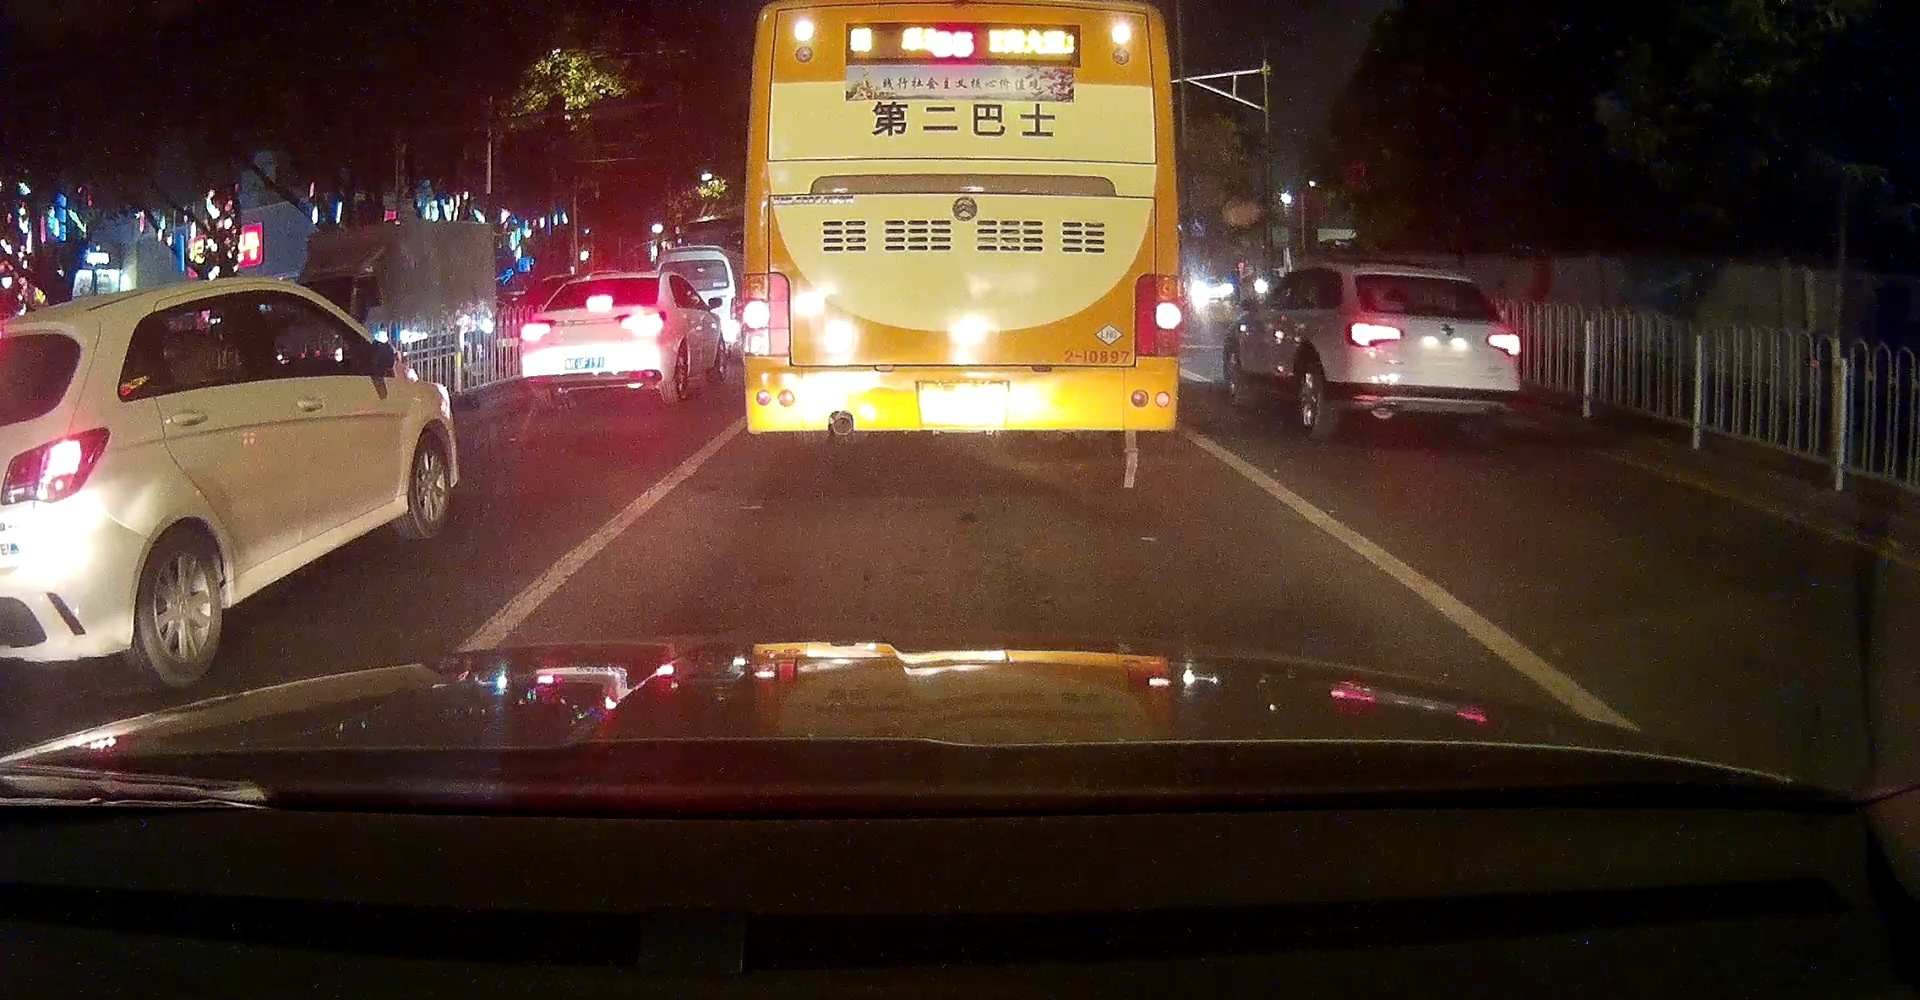L_light: (738, 272, 790, 357), (519, 319, 556, 341)
R_light: (613, 311, 667, 336), (922, 5, 993, 22), (1484, 330, 1521, 357)
T_light: (564, 357, 604, 371)
day-no: (1133, 273, 1182, 357), (1345, 321, 1403, 346), (585, 294, 613, 312), (1415, 275, 1445, 283)
night-brake: (519, 272, 668, 412)
night-no: (738, 0, 1183, 445), (1342, 263, 1523, 445)
